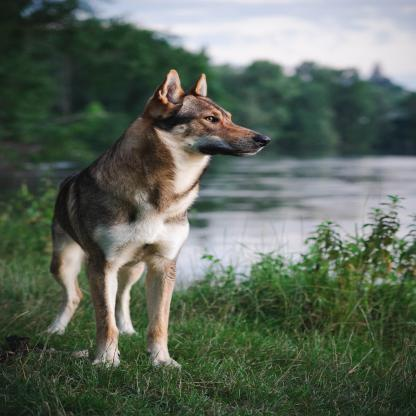dog: (46, 70, 276, 376)
